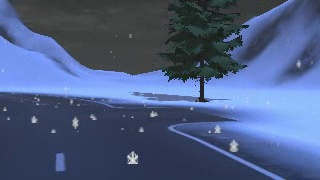Lane: (1, 92, 280, 179)
